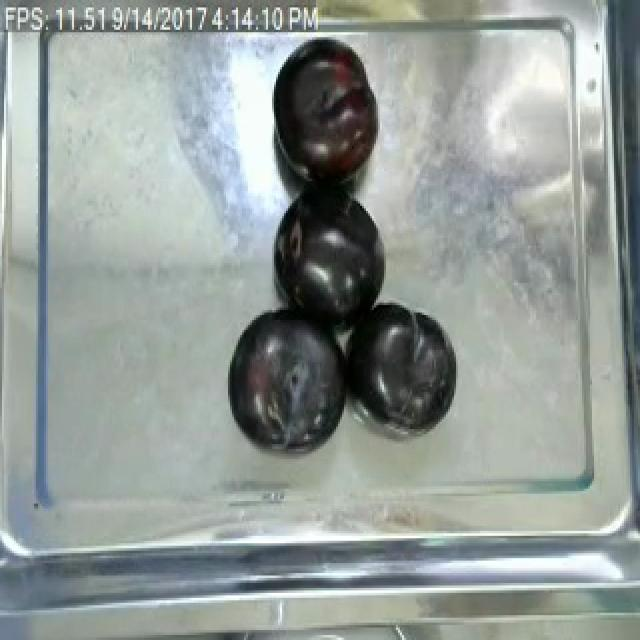Fruit: (220, 300, 352, 452), (272, 164, 388, 335), (266, 37, 386, 194), (336, 295, 462, 432)
